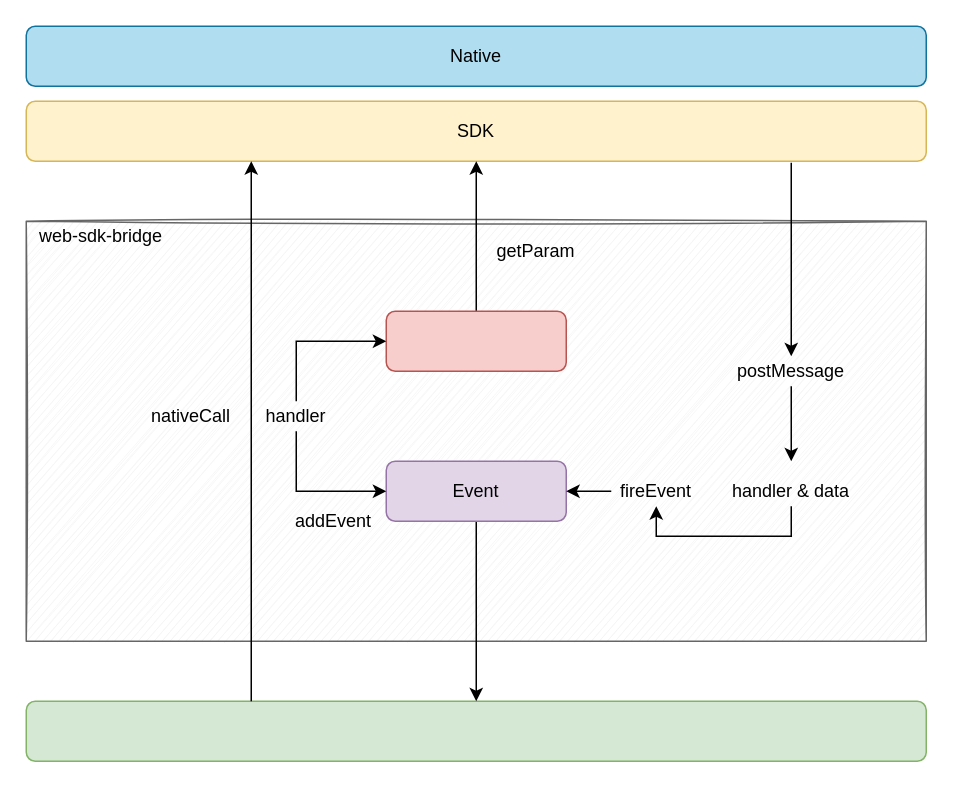
The diagram is 953 pixels wide and 788 high, and some of its shapes have lost their labels. Here are the shapes that lost their labels. From the top down, the box of each, then its label:
(385, 310, 566, 371): DataStore
(25, 700, 926, 761): Web
